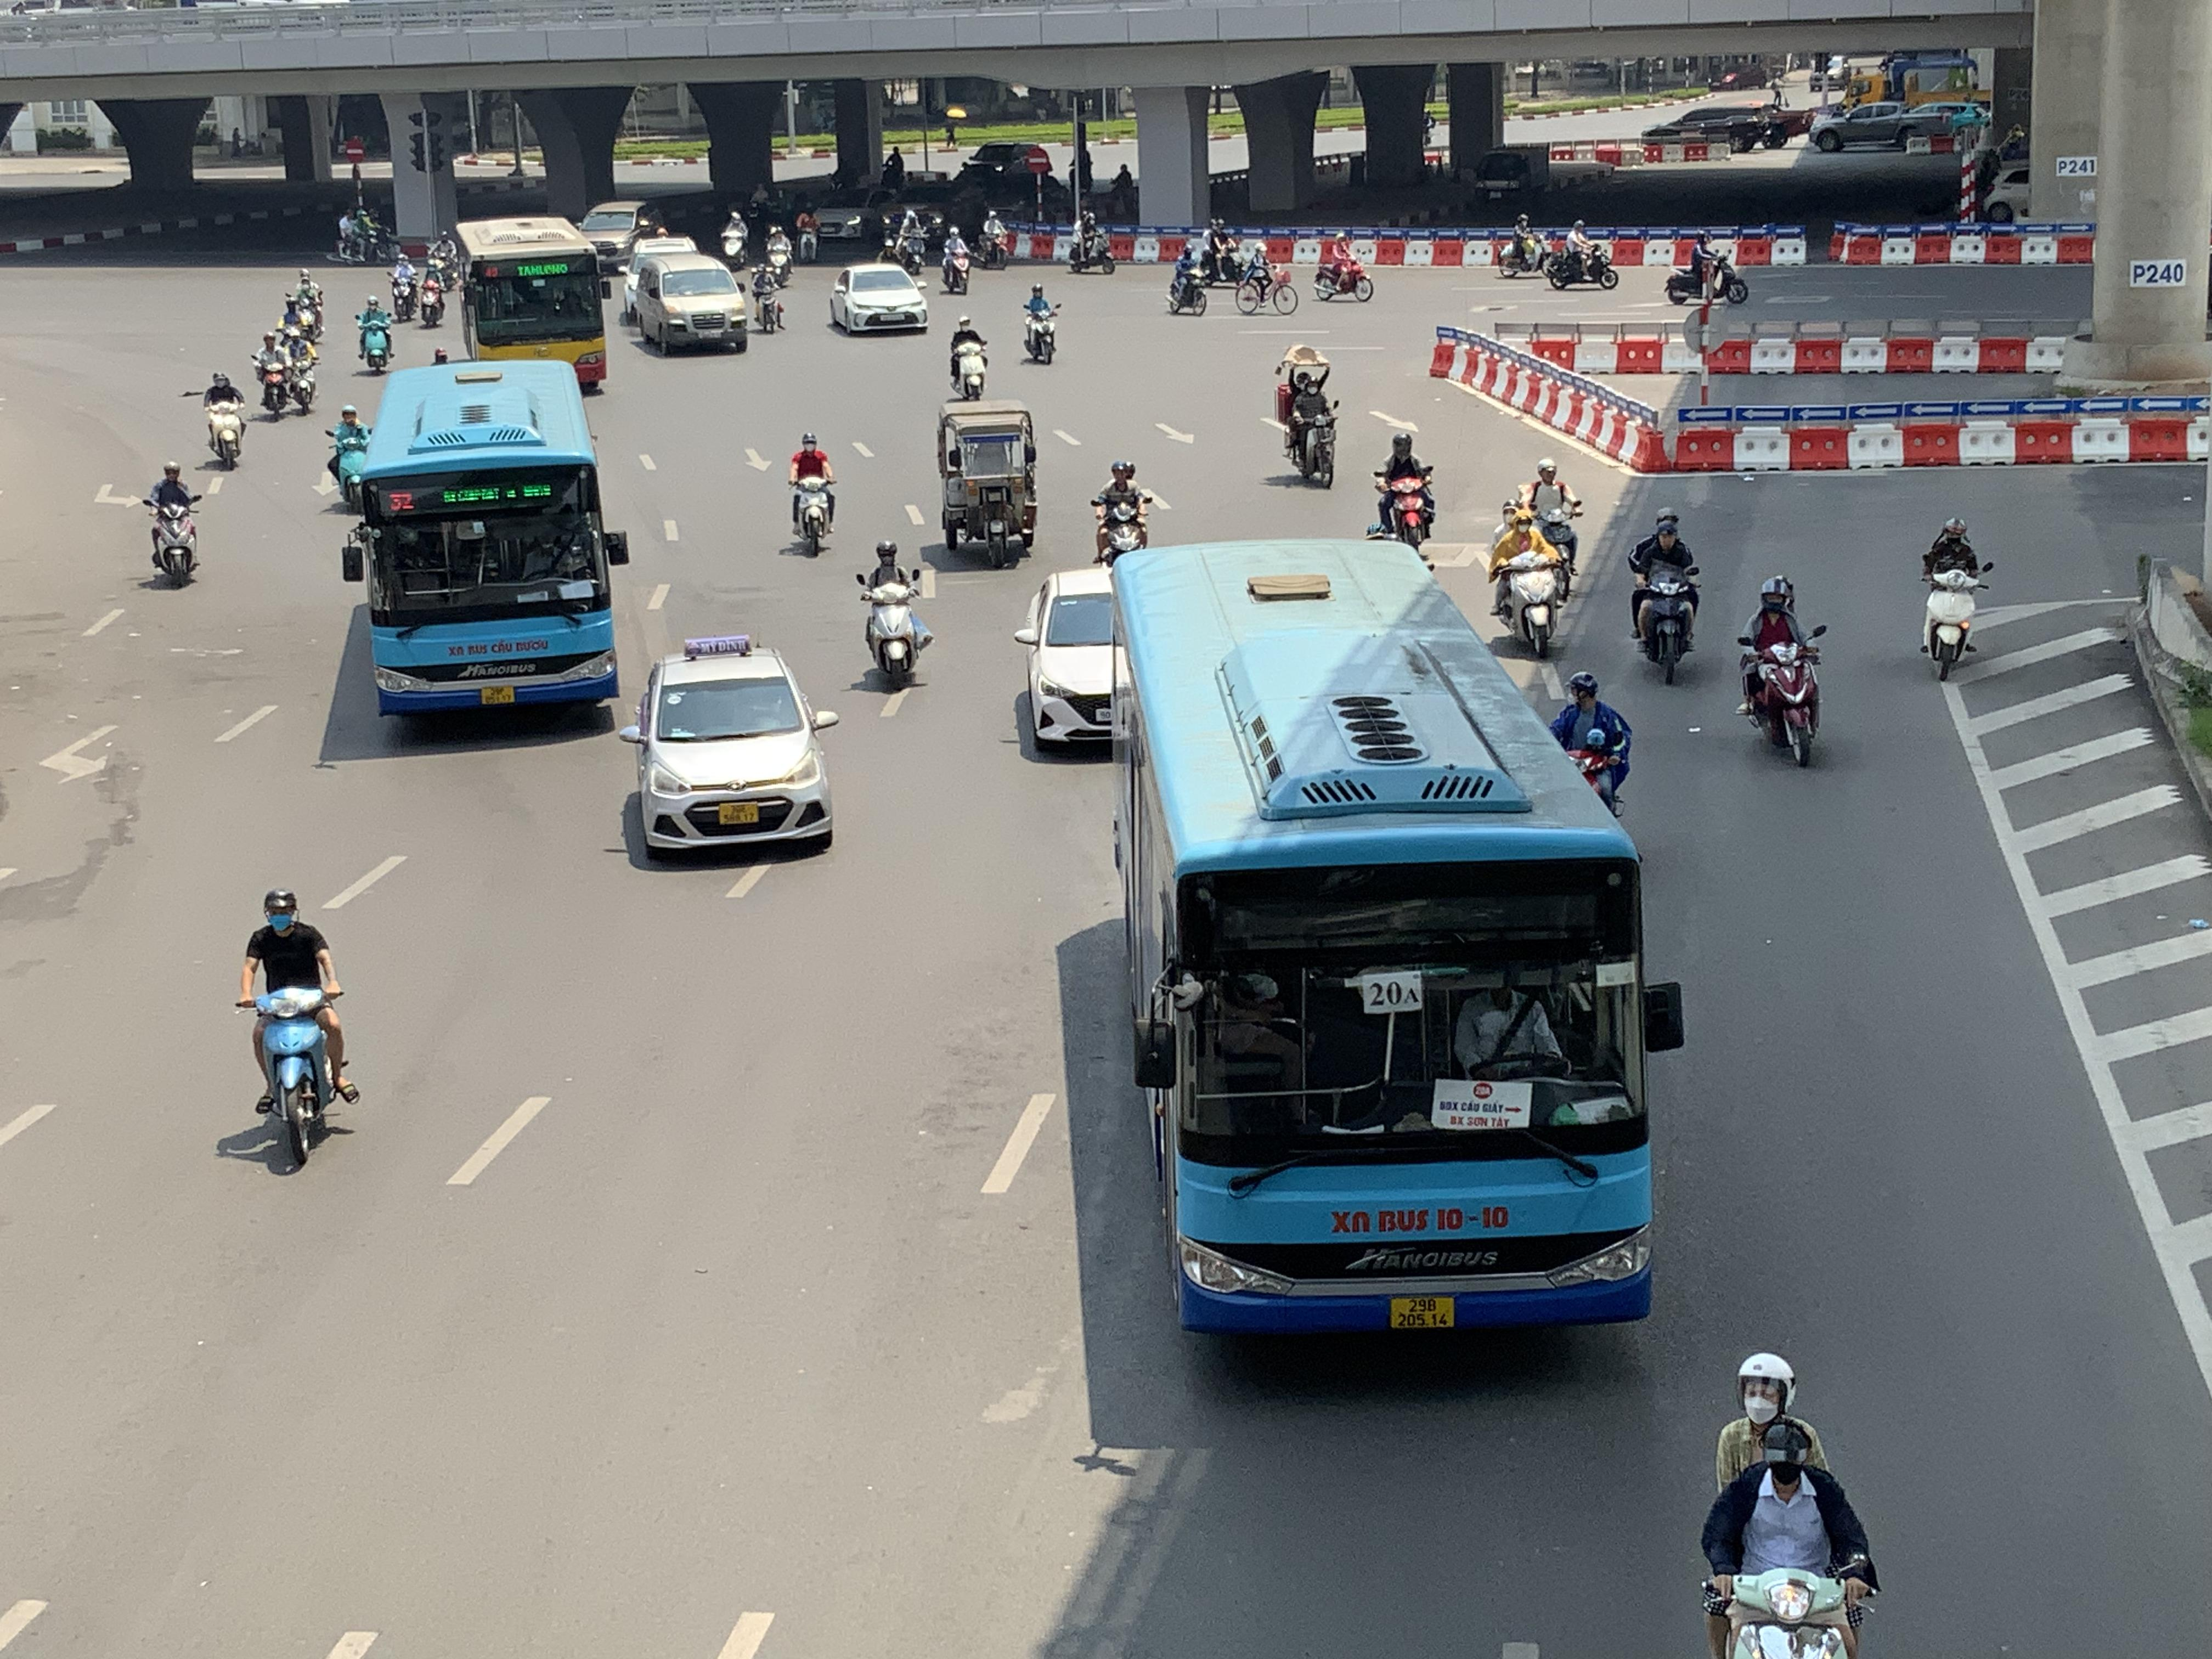BSV: (1390, 1297, 1454, 1328), (719, 803, 758, 824), (481, 685, 514, 704)
bus: (1106, 537, 1684, 1340), (341, 357, 631, 725), (453, 213, 610, 394)
car: (615, 638, 840, 866), (1012, 566, 1120, 760), (625, 246, 749, 356), (829, 261, 928, 336)
motorbike: (1700, 1415, 1878, 1659), (239, 887, 354, 1175), (1738, 573, 1825, 769), (1629, 511, 1702, 685), (1487, 502, 1568, 659), (857, 538, 932, 694), (1921, 516, 1991, 681), (1552, 671, 1632, 812), (1514, 458, 1585, 596), (1369, 429, 1437, 551), (1280, 361, 1339, 488), (1089, 458, 1157, 568), (145, 460, 202, 589), (786, 430, 838, 558), (1665, 228, 1749, 305), (258, 319, 319, 420), (324, 403, 373, 511), (251, 322, 305, 420), (1547, 221, 1618, 289), (200, 366, 247, 469), (1235, 240, 1299, 315), (1313, 230, 1374, 303), (1494, 214, 1554, 279), (946, 314, 989, 401), (1019, 281, 1061, 364), (355, 289, 395, 375), (282, 270, 326, 345), (1167, 242, 1211, 315), (1068, 213, 1116, 275), (749, 258, 786, 333), (388, 247, 421, 324), (416, 253, 448, 328), (941, 225, 972, 295), (763, 221, 794, 286)
